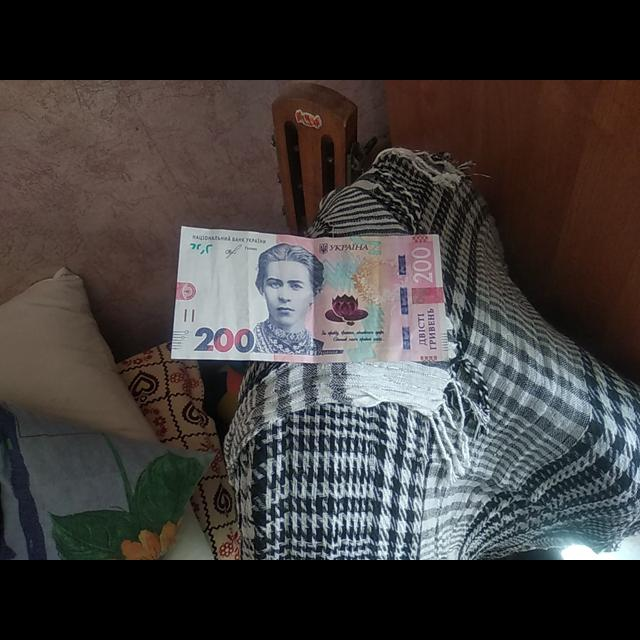200uah: (178, 232, 446, 361)
